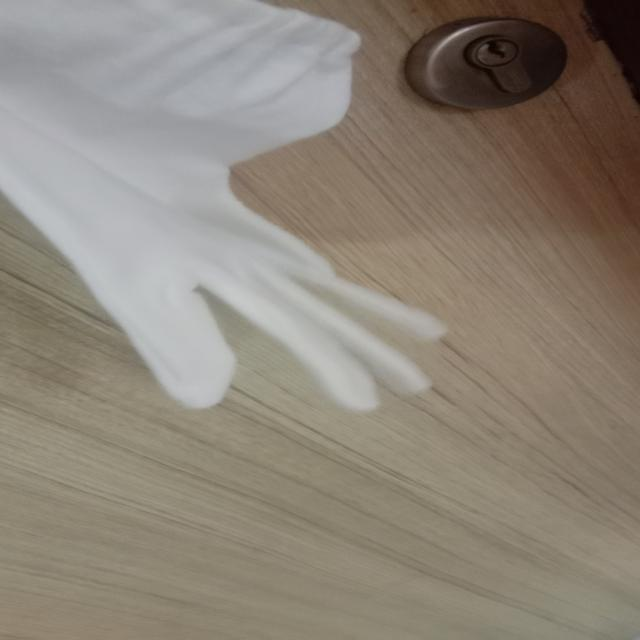glove_hand: (8, 1, 454, 411)
